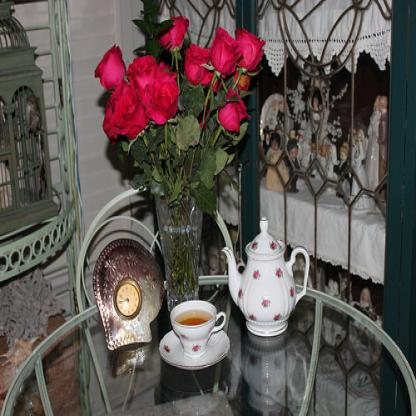ROSE-MAWAR: (84, 15, 273, 143)
